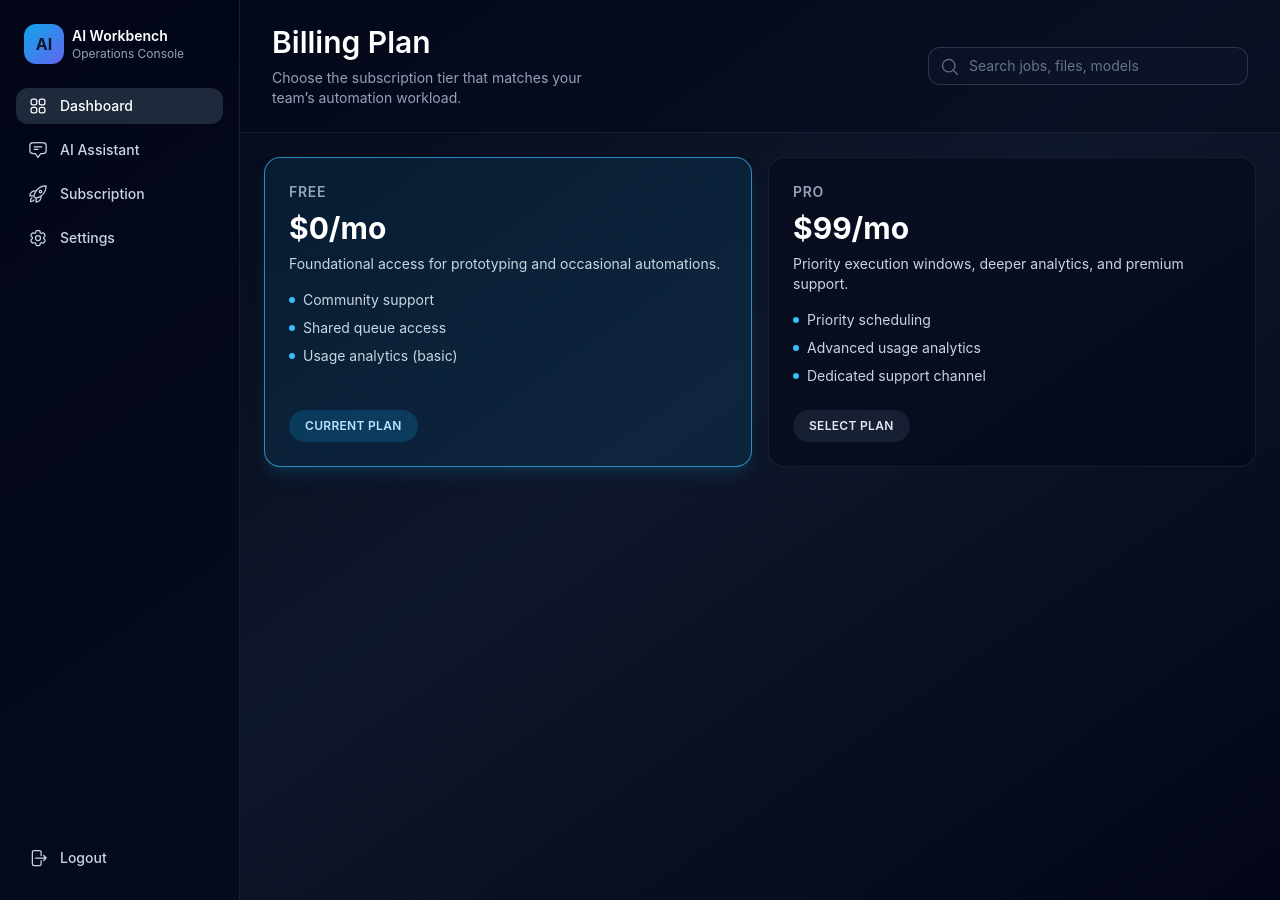
renders plans and updates selection
Expected: the text "Free" is shown, 289,183 -> 326,200
What coordinates should you click on to do the following:
click the button with aria-label "pro plan option"
I would click on:
 (1012, 312)
Its box is 768,157 -> 1256,467.
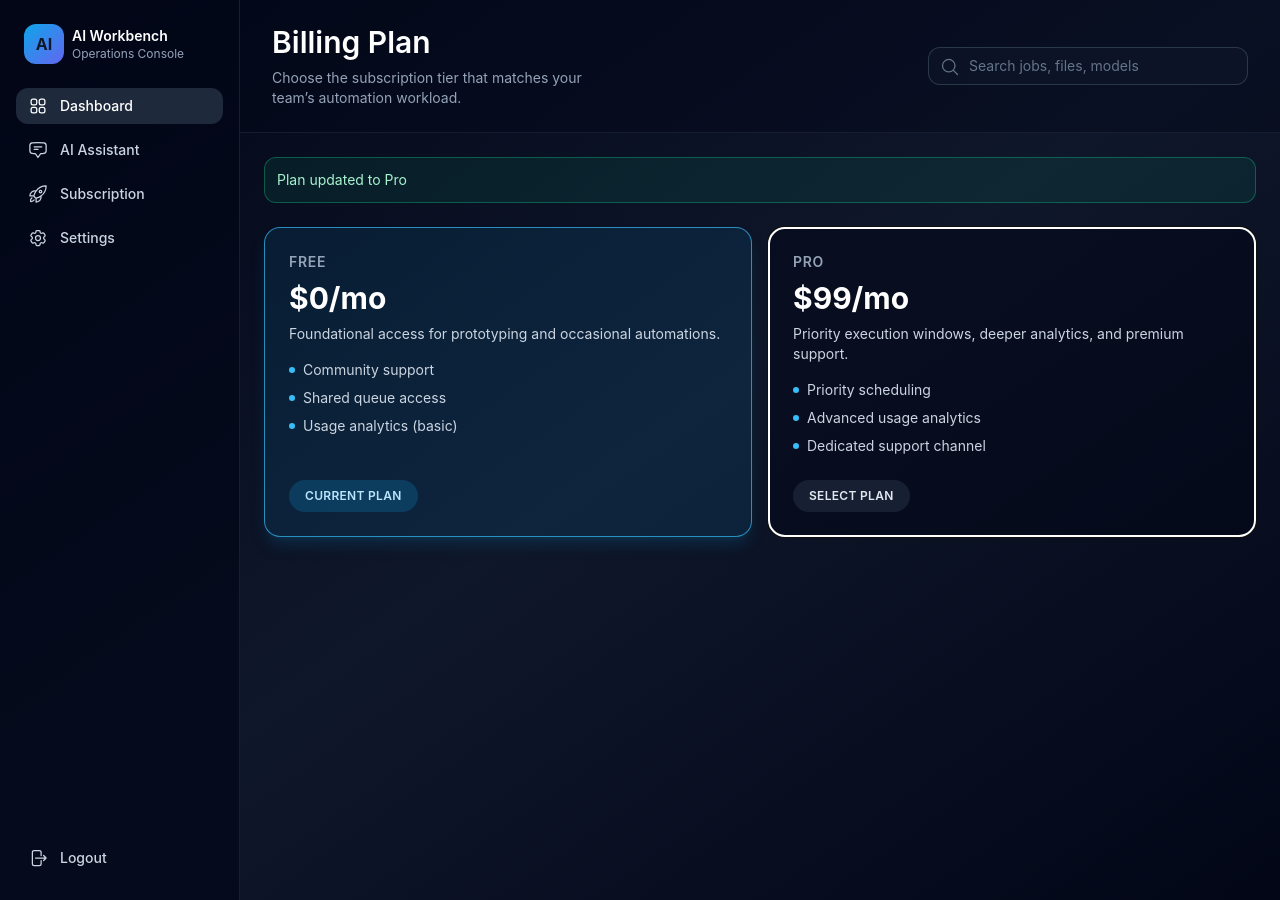
Expected: the text "Plan updated to Pro" is shown, 264,157 -> 1256,203
